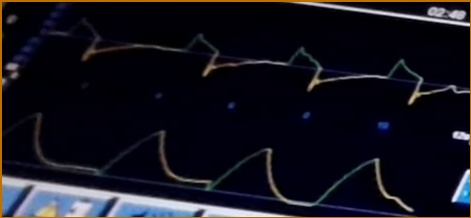Ineffective_effort Flow: (48, 13, 471, 106)
Ineffective_effort Volume: (4, 106, 415, 211)
